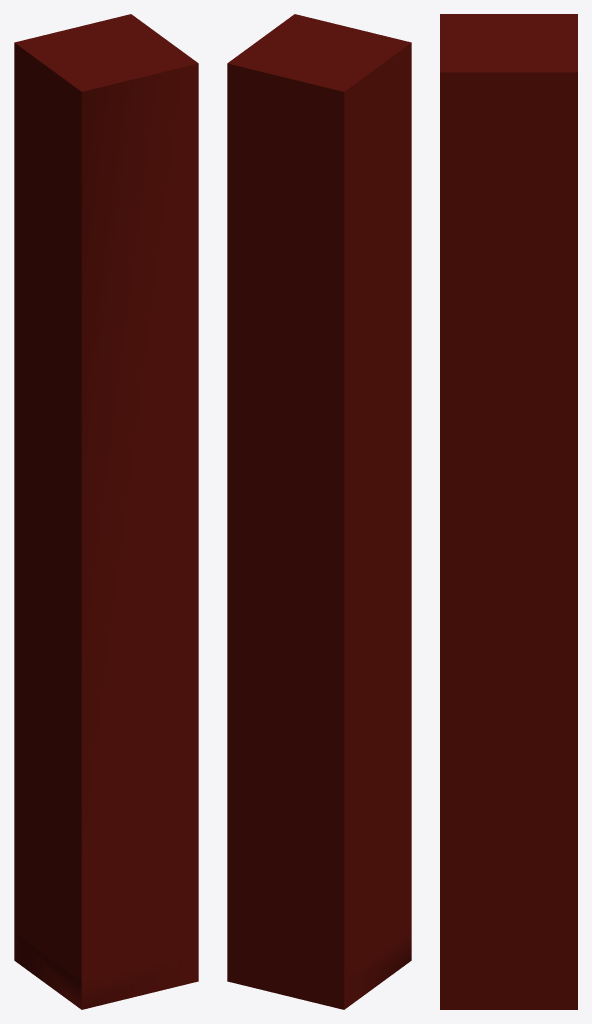
The model's file is pillar.fbx.
The picture shows the model from 3 angles, left to right: view 1: azimuth 30°, elevation 25°; view 2: azimuth 150°, elevation 25°; view 3: azimuth 270°, elevation 25°; orthographic projection. The views are drawn at different scales.
Parts seen in each view (by area): view 1: pillar; view 2: pillar; view 3: pillar.
Boxes of the visible parts, bbox=[...] form: pillar: bbox=[14, 14, 198, 1009]; pillar: bbox=[227, 14, 411, 1009]; pillar: bbox=[440, 14, 577, 1009].
Bounding box in the file's own units: 157 × 1181 × 157.
